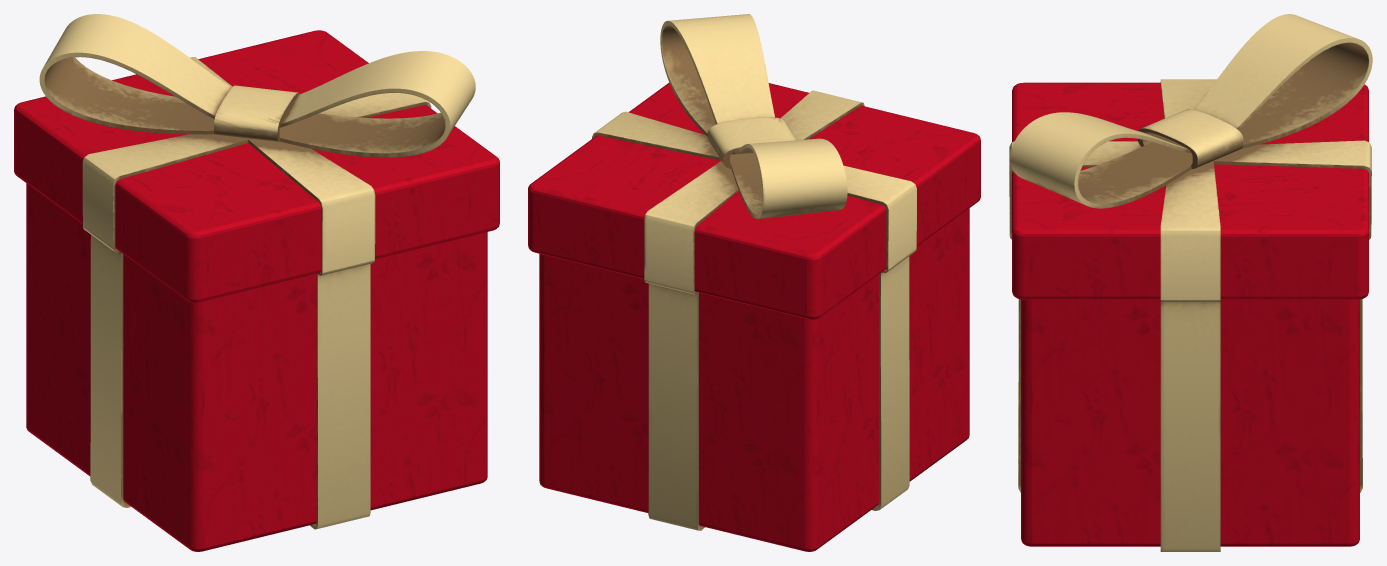
File: wrapped_present.glb
3 renders of one model, left to right at view 1: azimuth 30°, elevation 25°; view 2: azimuth 150°, elevation 25°; view 3: azimuth 270°, elevation 25°, orthographic. The views are drawn at different scales.
Parts seen in each view (by area): view 1: Cube.001, Cube.002; view 2: Cube.001, Cube.002; view 3: Cube.001, Cube.002.
Boxes of the visible parts, x1=… form: Cube.001: x1=14, y1=30, x2=499, y2=551; Cube.002: x1=39, y1=14, x2=475, y2=529; Cube.001: x1=528, y1=82, x2=980, y2=551; Cube.002: x1=592, y1=14, x2=916, y2=530; Cube.001: x1=1012, y1=82, x2=1368, y2=546; Cube.002: x1=1009, y1=14, x2=1372, y2=551.
Size of the model in its own units: 214 by 264 by 214.
Materials: 2 (2 with a texture image).
